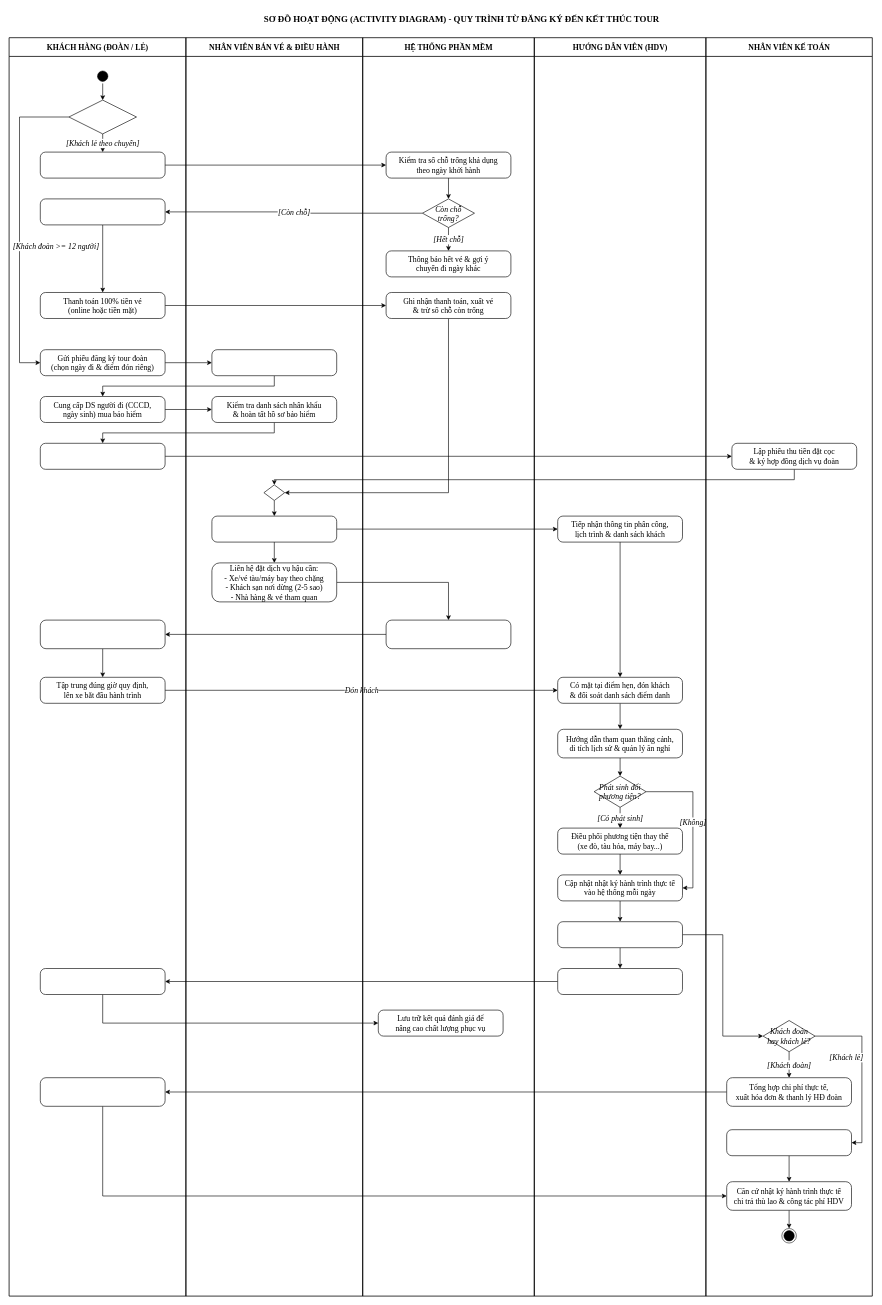
This 882x1305 diagram has some shape labels left out. Each missing label, with the centre of its shape:
"Chọn số lượng vé, điểm đón & nhập thông tin cá nhân" belongs at point 102,211.
"Hình thức đăng ký tour?" belongs at point 102,117.
"Nhận thông báo khởi hành & xác nhận điểm đón hẹn" belongs at point 102,634.
"Nộp tiền đặt cọc tour đoàn (theo % hợp đồng)" belongs at point 102,456.
"Phát phiếu khảo sát đánh giá chất lượng phục vụ cho khách" belongs at point 620,981.
"Phân công Hướng dẫn viên (HDV) phù hợp phụ trách tuyến" belongs at point 274,529.
"Thanh toán số tiền còn lại & hoàn tất hợp đồng" belongs at point 102,1091.
"Thỏa thuận chi tiết lộ trình, dịch vụ & dự toán kinh phí" belongs at point 274,362.
"Tự động gửi Email/SMS thông báo giờ hẹn, điểm đón & SĐT HDV" belongs at point 448,634.
"Xác nhận đối soát doanh thu vé lẻ đã thu trước" belongs at point 789,1142.
"Yêu cầu tra cứu chuyến đi & số chỗ trống" belongs at point 102,165.
"Điền phiếu khảo sát ý kiến (xe, ăn, phòng nghỉ, HDV)" belongs at point 102,981.
"Đưa khách về điểm trả an toàn, kết thúc tour tại TP.HCM" belongs at point 620,934.
